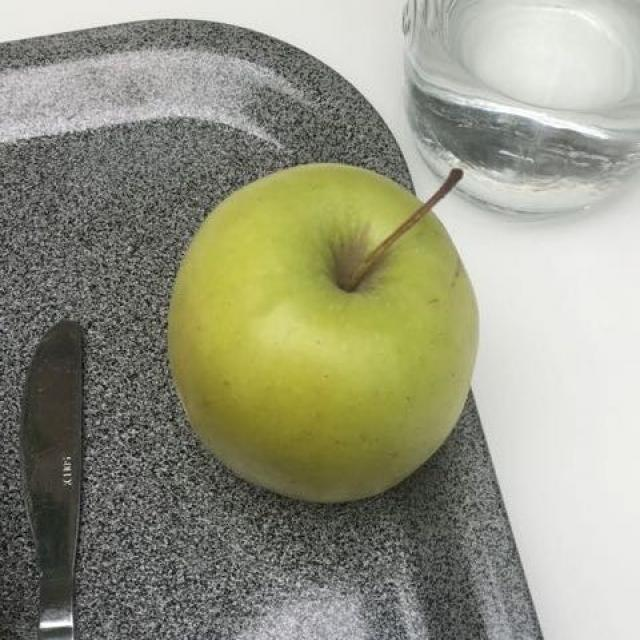apple: (165, 168, 467, 498)
